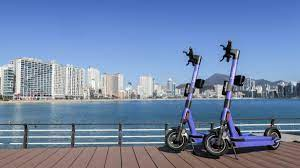kick_board: (203, 39, 280, 156)
kick_body: (233, 135, 267, 147)
kick_handler: (220, 40, 243, 59), (184, 46, 201, 65)
kick_neck: (223, 62, 238, 120), (183, 66, 198, 121)
kick_wheel: (204, 133, 227, 156), (167, 130, 186, 151), (264, 128, 280, 149)
